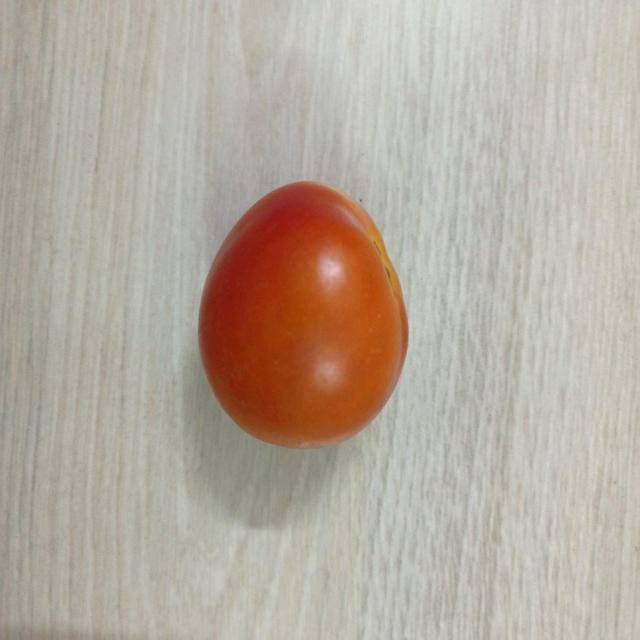Tomato: (196, 177, 412, 450)
